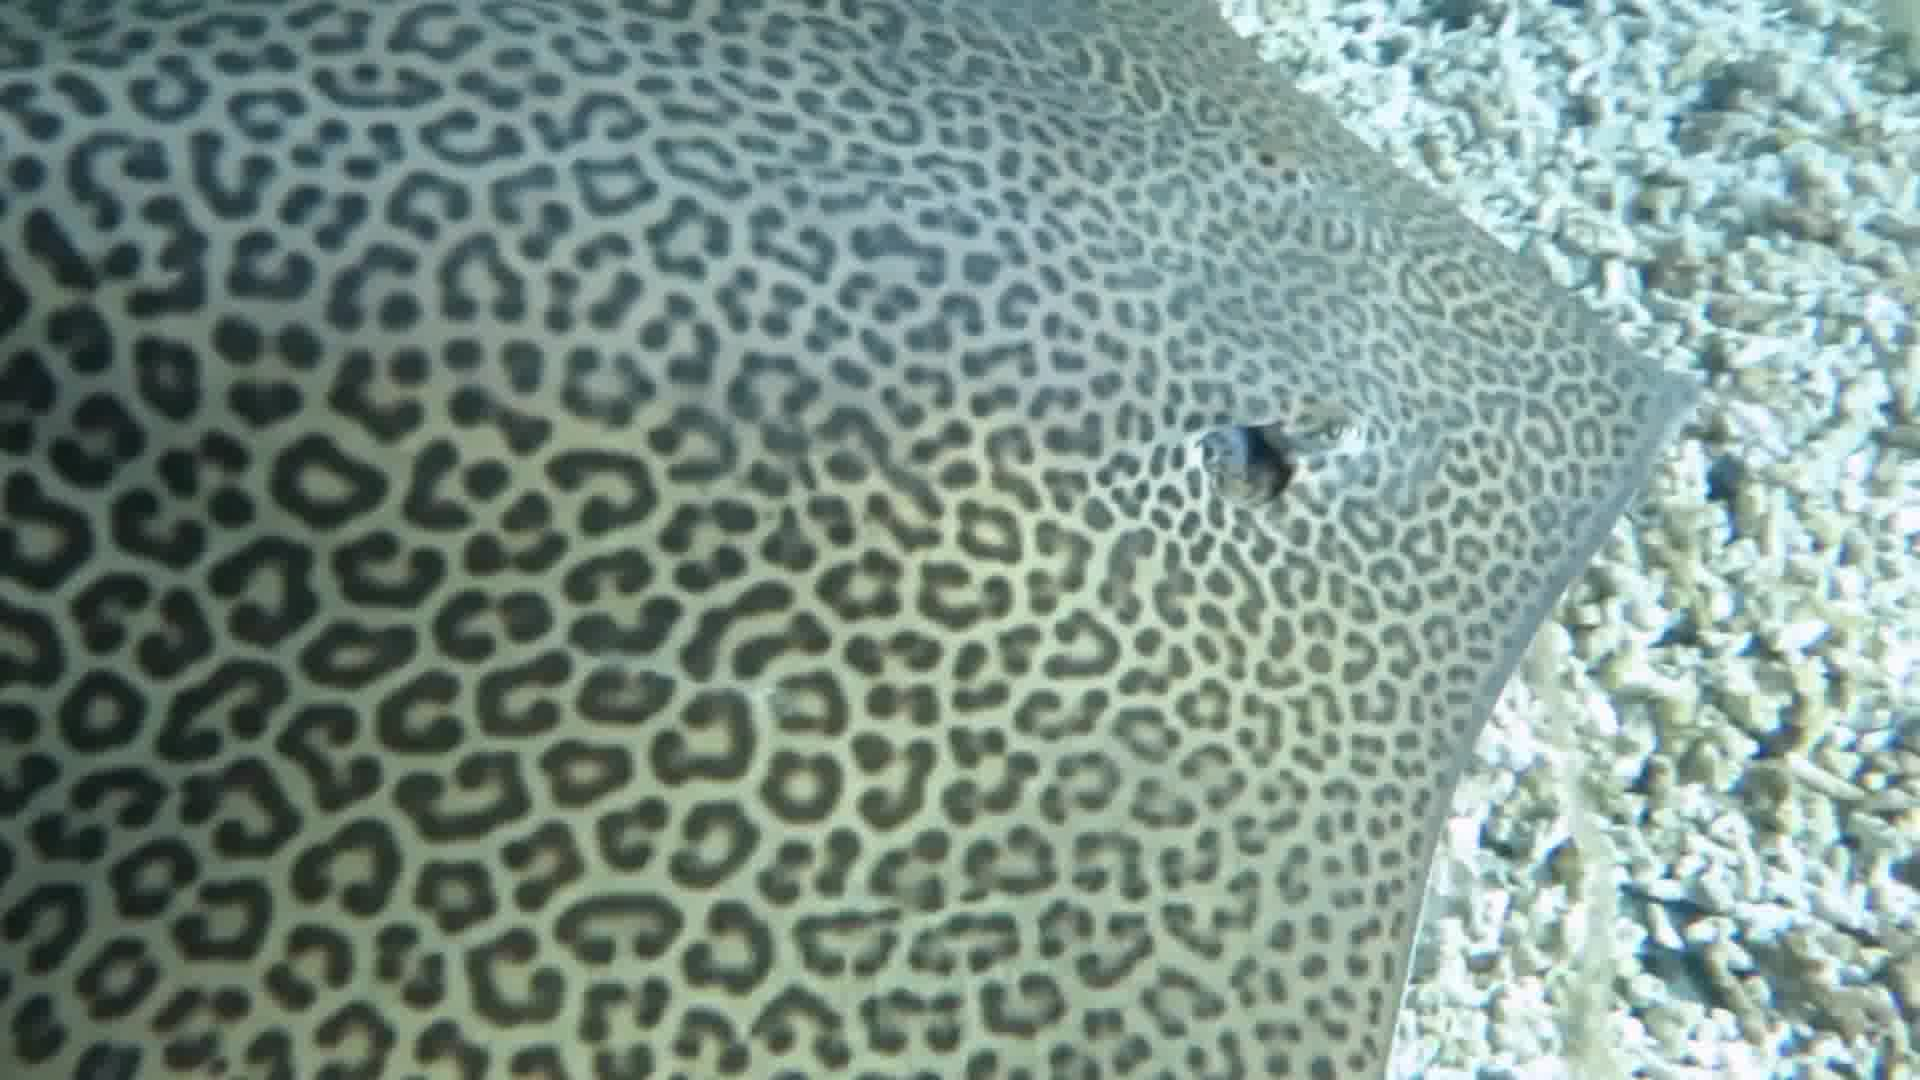Himantura uarnak: (1, 1, 1656, 1080)
